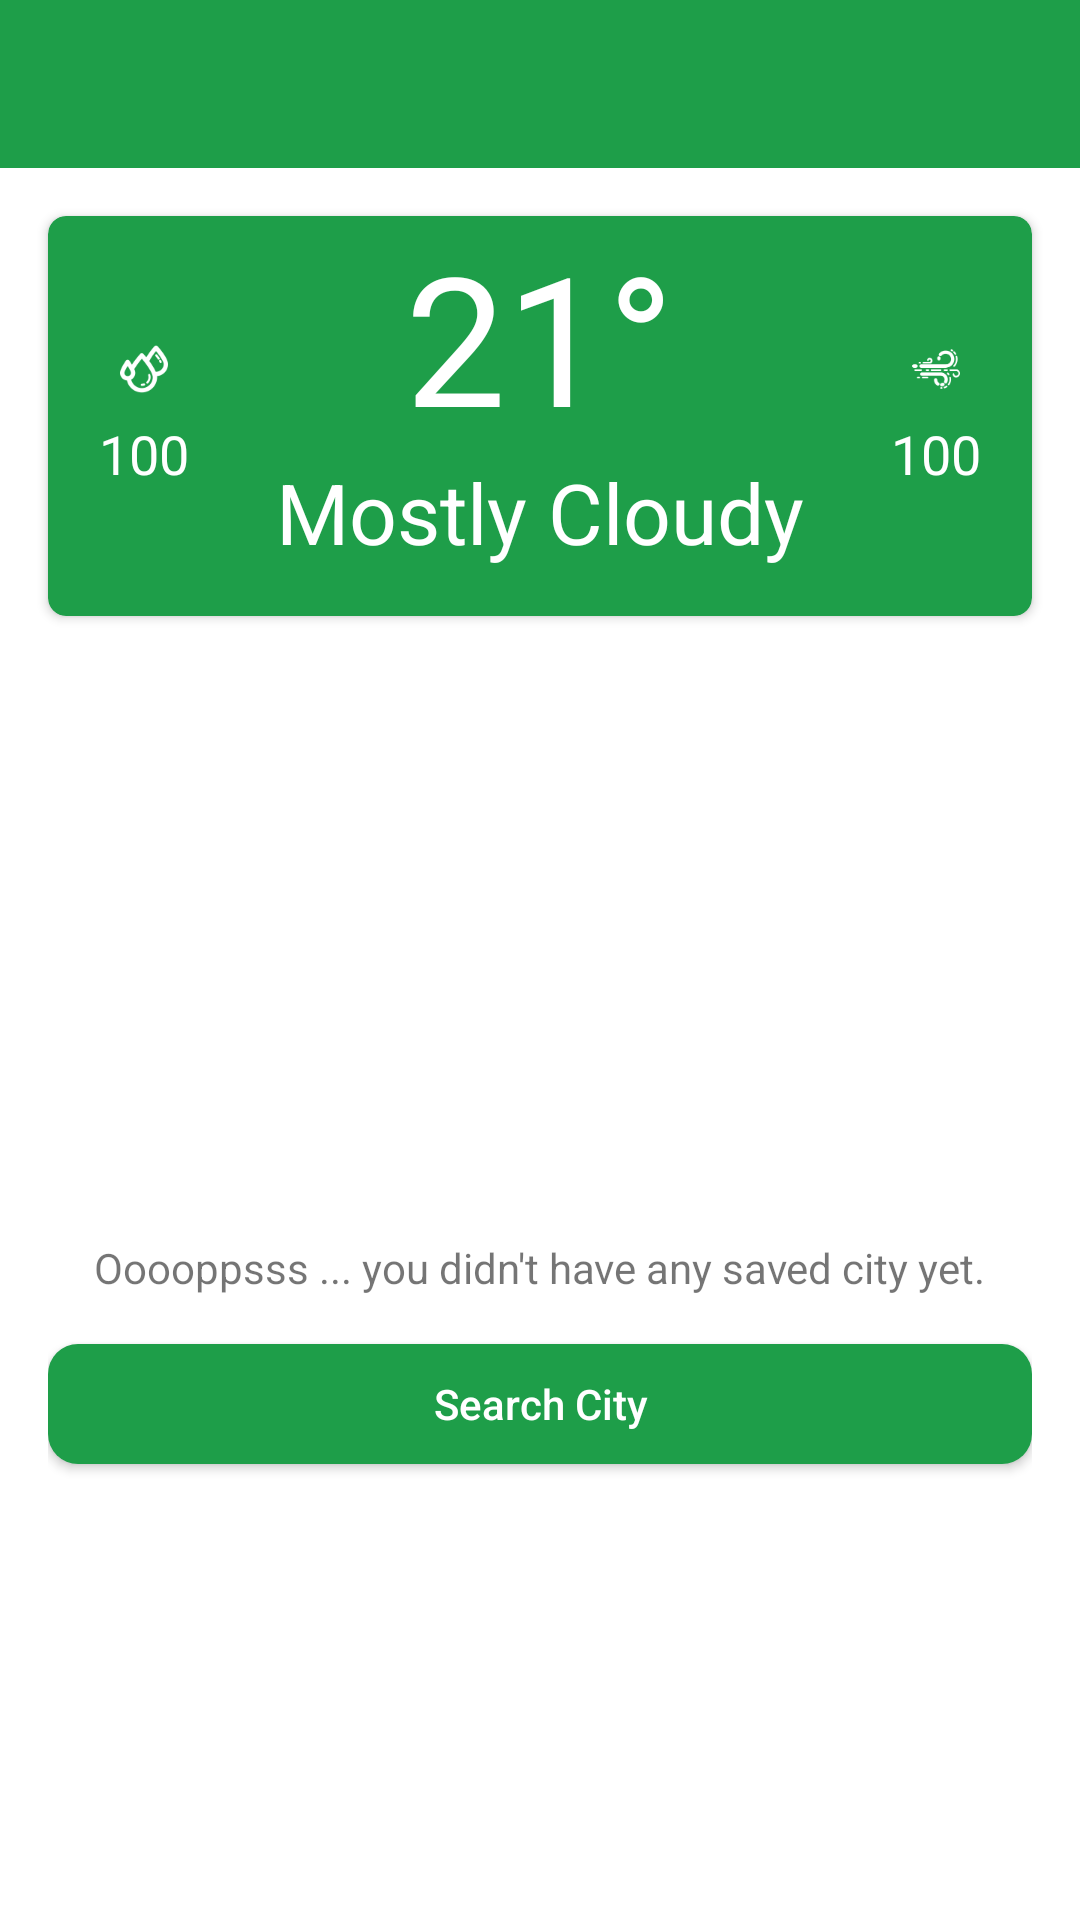

Locate icon controls on the screen. Image size 1080w x 1920h, boxes as [left=x1, top=y1, right=x2, bottom=y2].
humidity: [left=120, top=345, right=168, bottom=393]
wind: [left=912, top=349, right=960, bottom=389]
